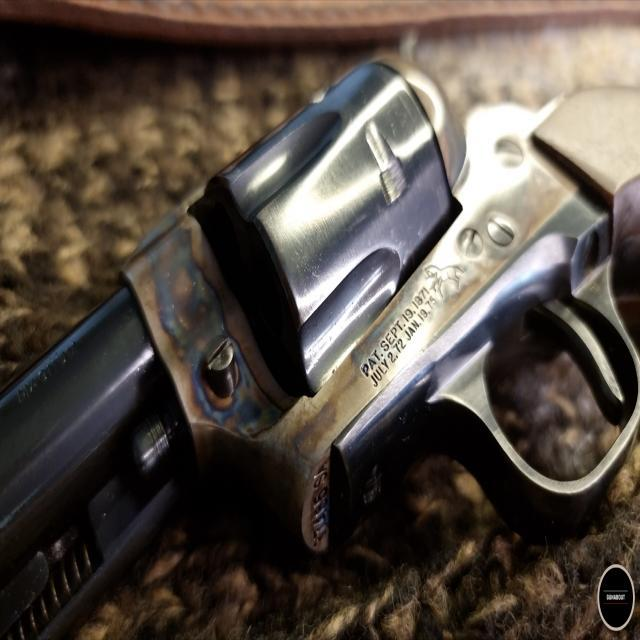revolver: (5, 42, 640, 638)
